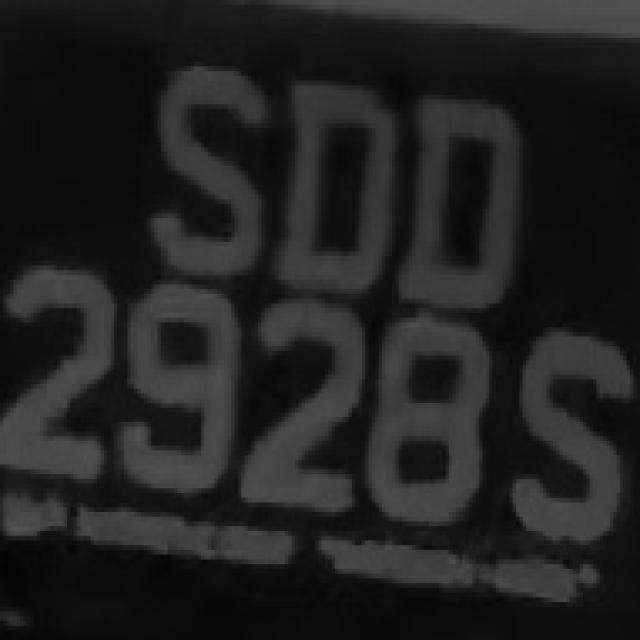2: (244, 280, 368, 531), (3, 237, 114, 493)
8: (369, 299, 499, 531)
9: (117, 256, 238, 517)
D: (271, 62, 392, 308), (402, 76, 526, 308)
S: (127, 33, 268, 275), (506, 294, 623, 559)
